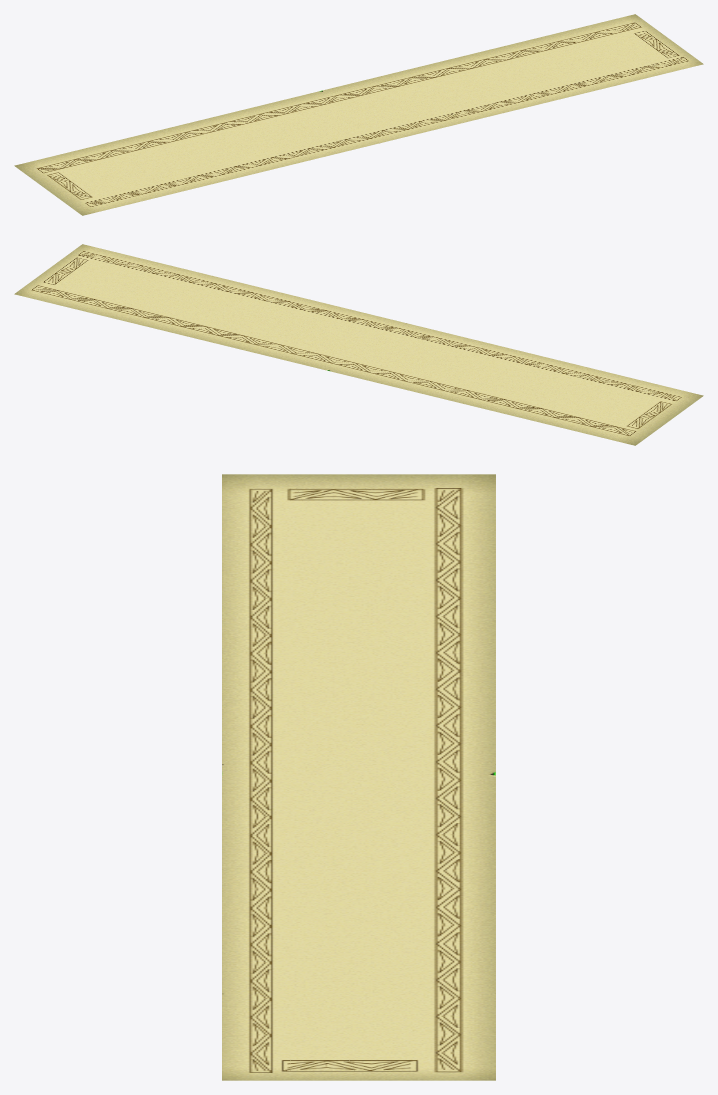
The model's file is uiplane.obj.
3 views of the same model, one above another, from view 1: azimuth 30°, elevation 25°; view 2: azimuth 150°, elevation 25°; view 3: azimuth 270°, elevation 25° (orthographic). The views are drawn at different scales.
Visible parts, largest first — view 1: Plane001; view 2: Plane001; view 3: Plane001.
Part boxes in pixels (x1,y1,x2,y2): Plane001: (14, 14, 703, 215); Plane001: (14, 244, 703, 445); Plane001: (222, 474, 495, 1080).
Size of the model in its own units: 791 by 0 by 151.
1 material, 1 textured.
